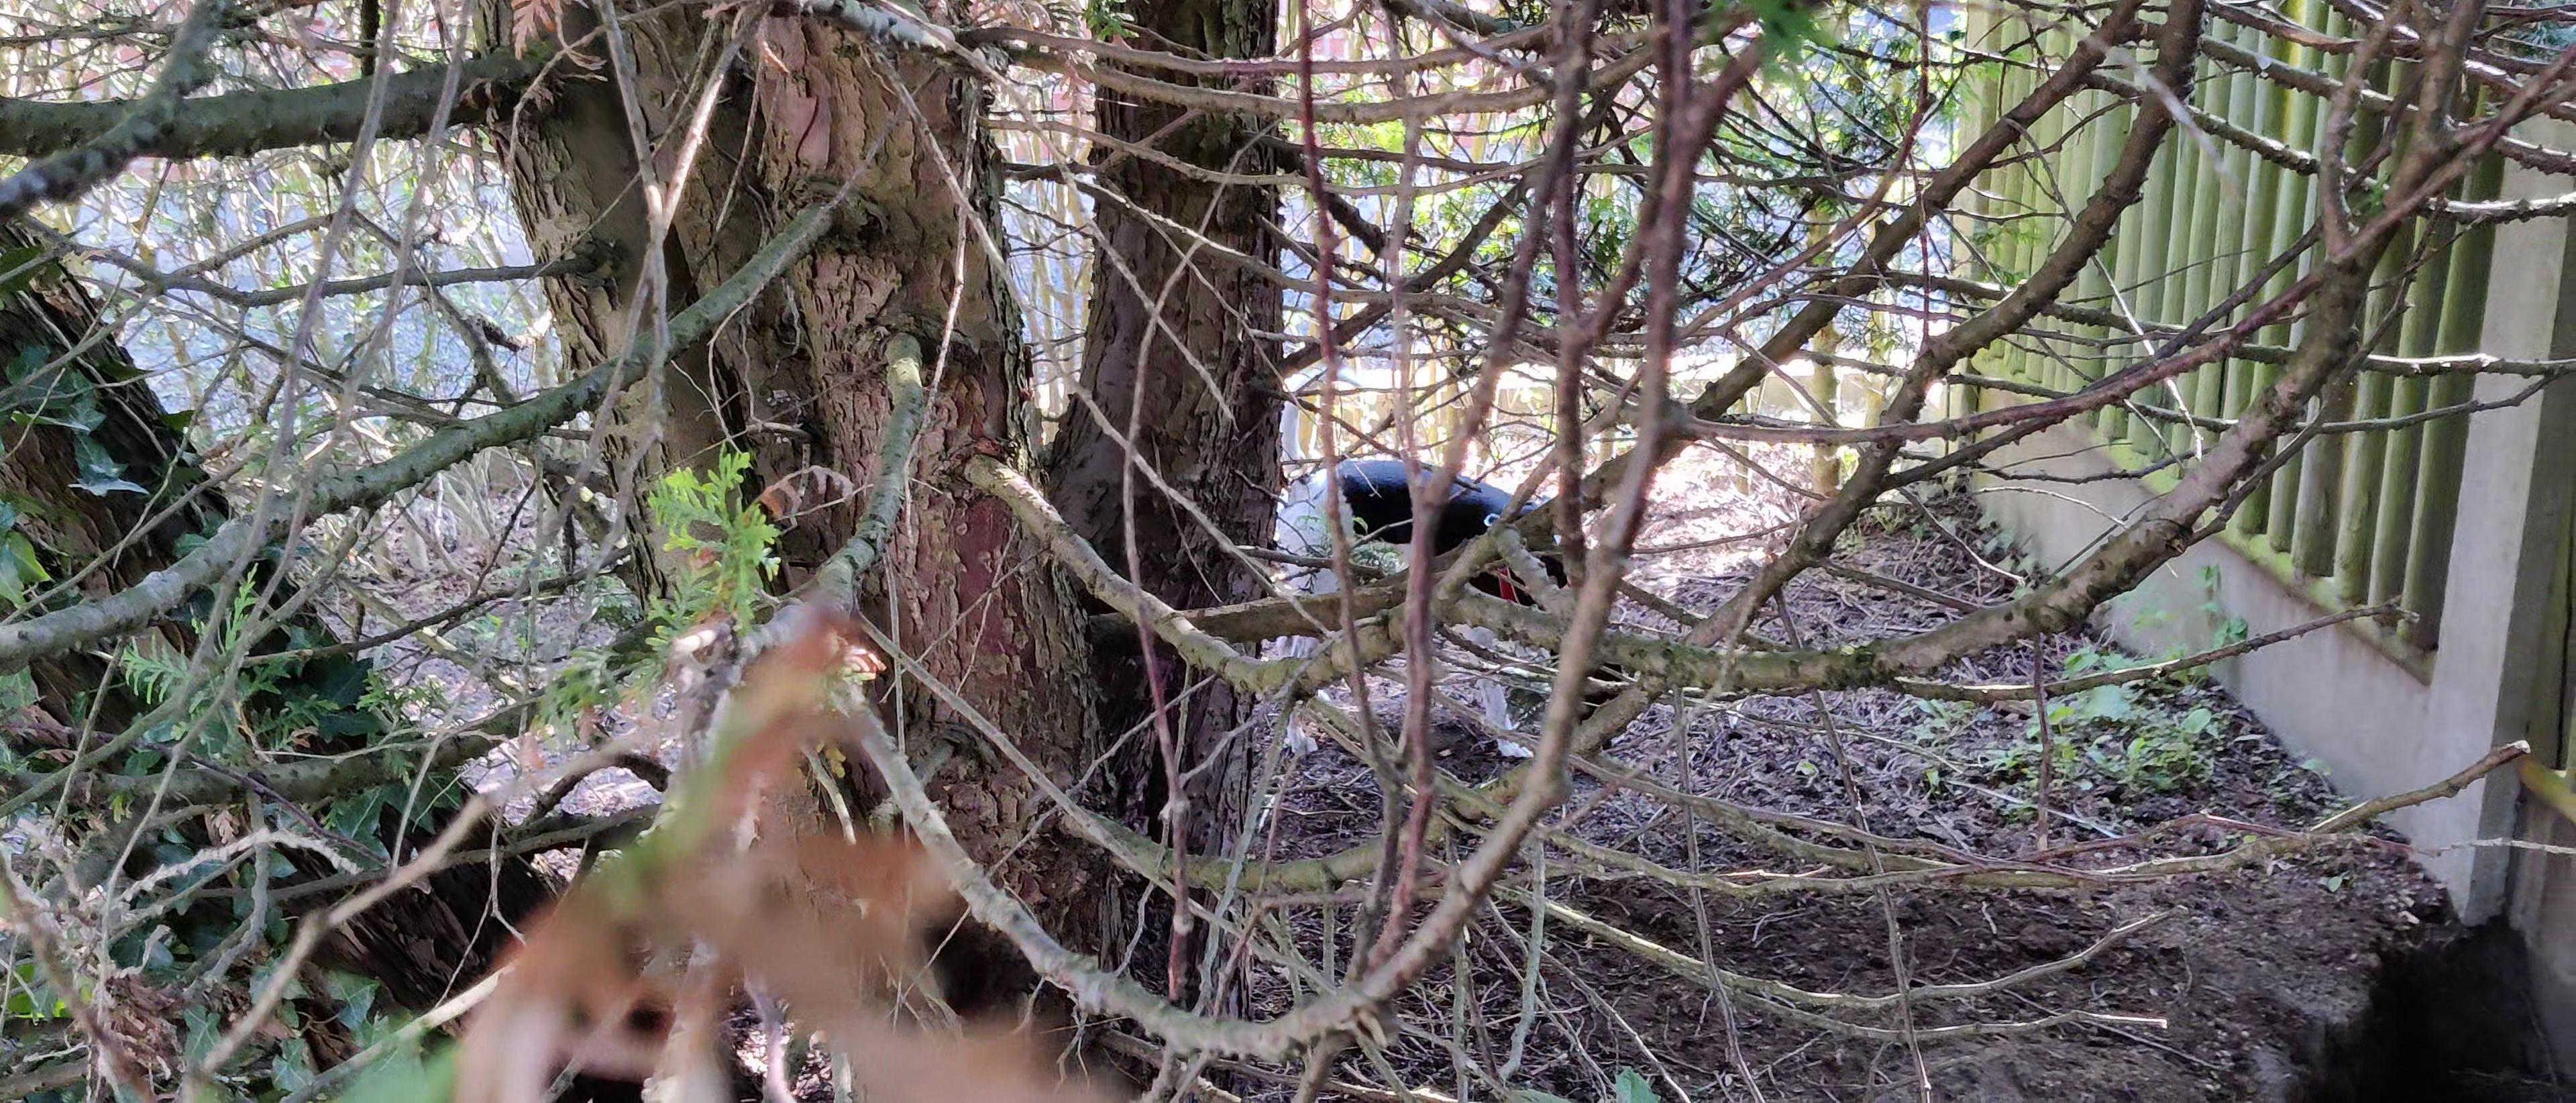Dog: (1260, 355, 1651, 759)
